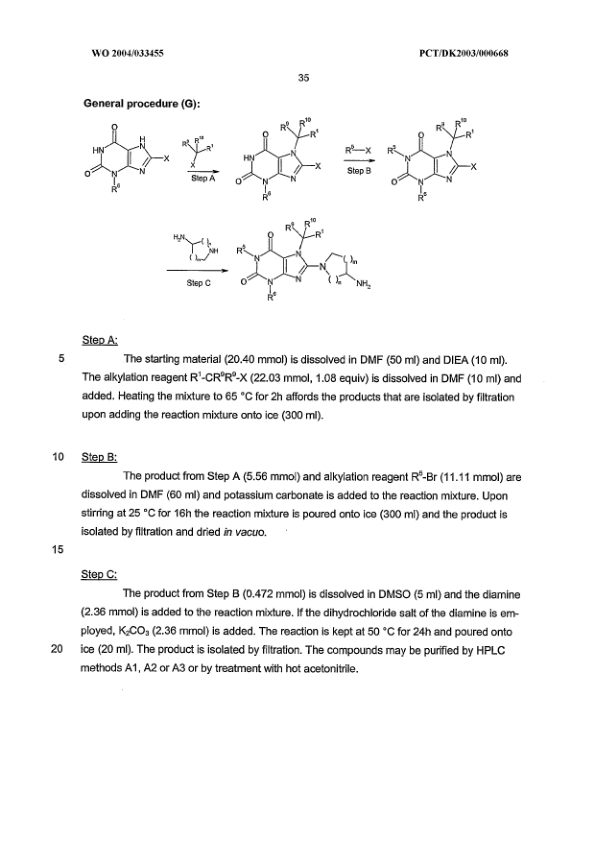compound-structure: (379, 108, 485, 207), (235, 108, 328, 200), (77, 114, 171, 194), (166, 226, 225, 266), (178, 132, 219, 168)
reaction: (70, 108, 526, 321)
reaction-arrow: (234, 215, 375, 306), (146, 224, 232, 287), (175, 126, 229, 189), (341, 135, 378, 178)
